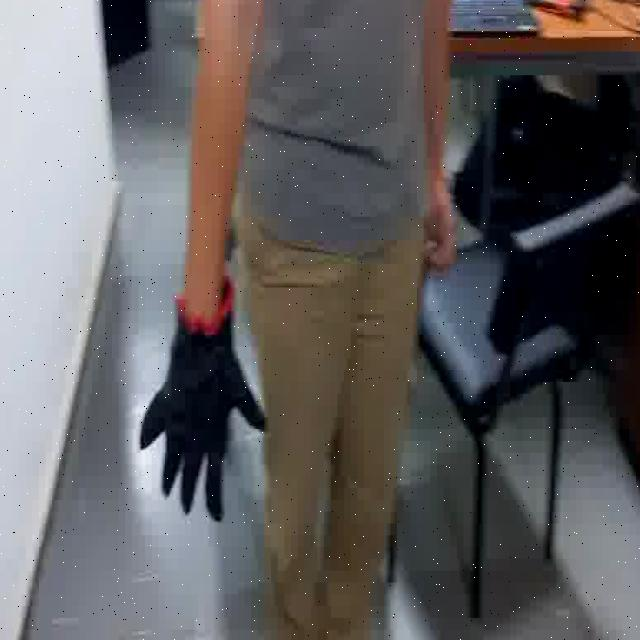Gloves: (141, 286, 266, 524)
